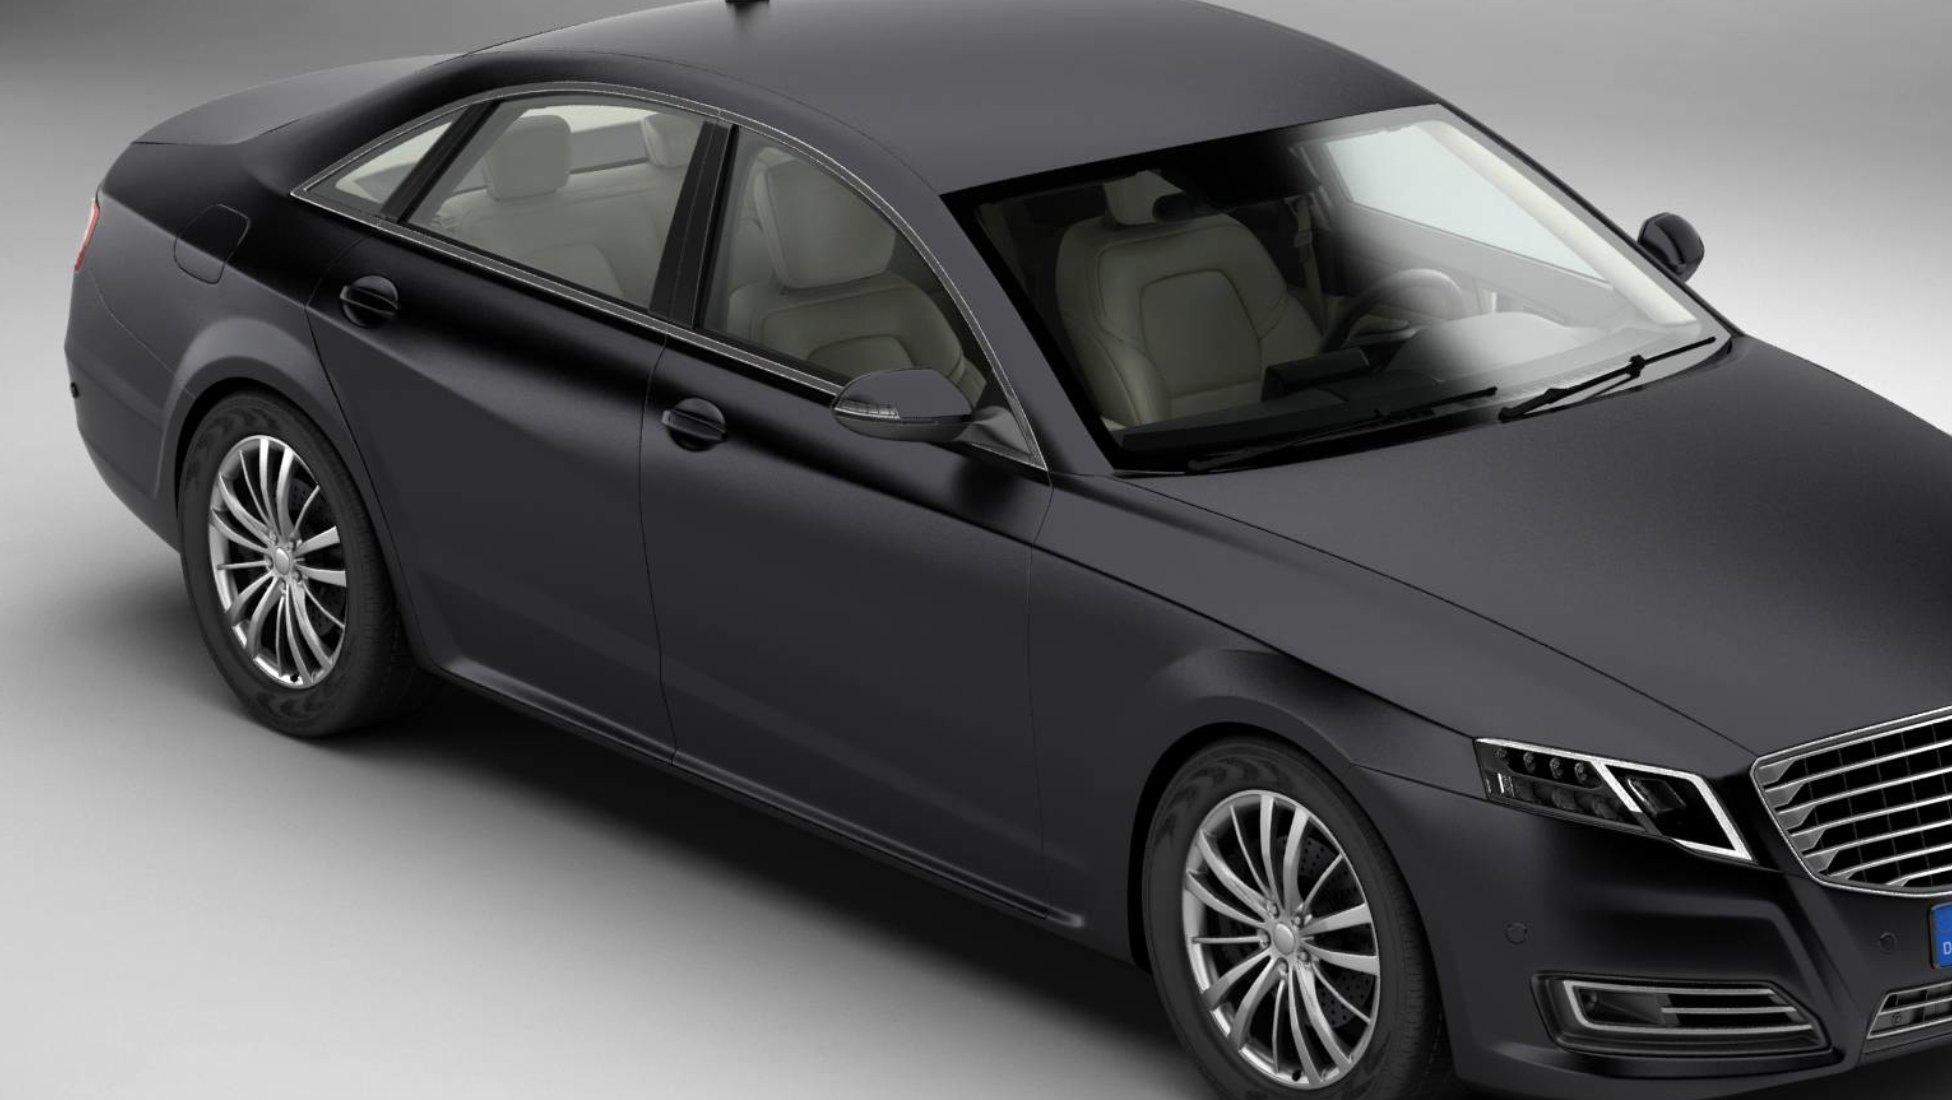hatch: (169, 199, 253, 291)
